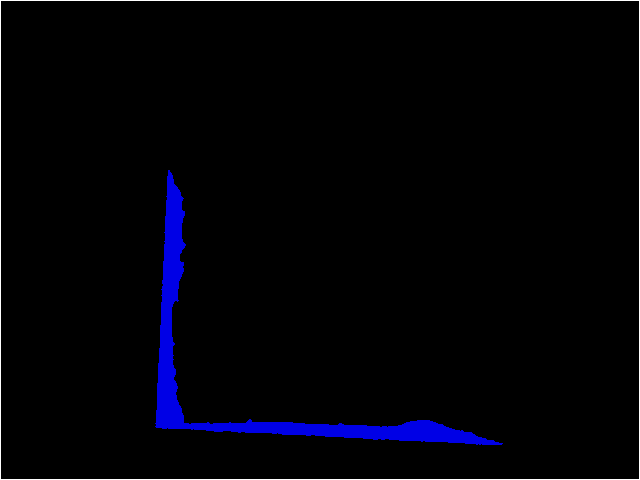defect: (155, 167, 505, 446)
